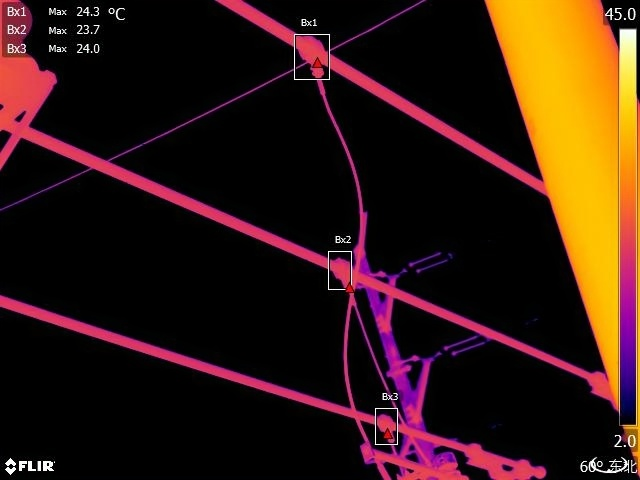clamp: (297, 33, 329, 76), (329, 252, 350, 290), (377, 410, 396, 442)
